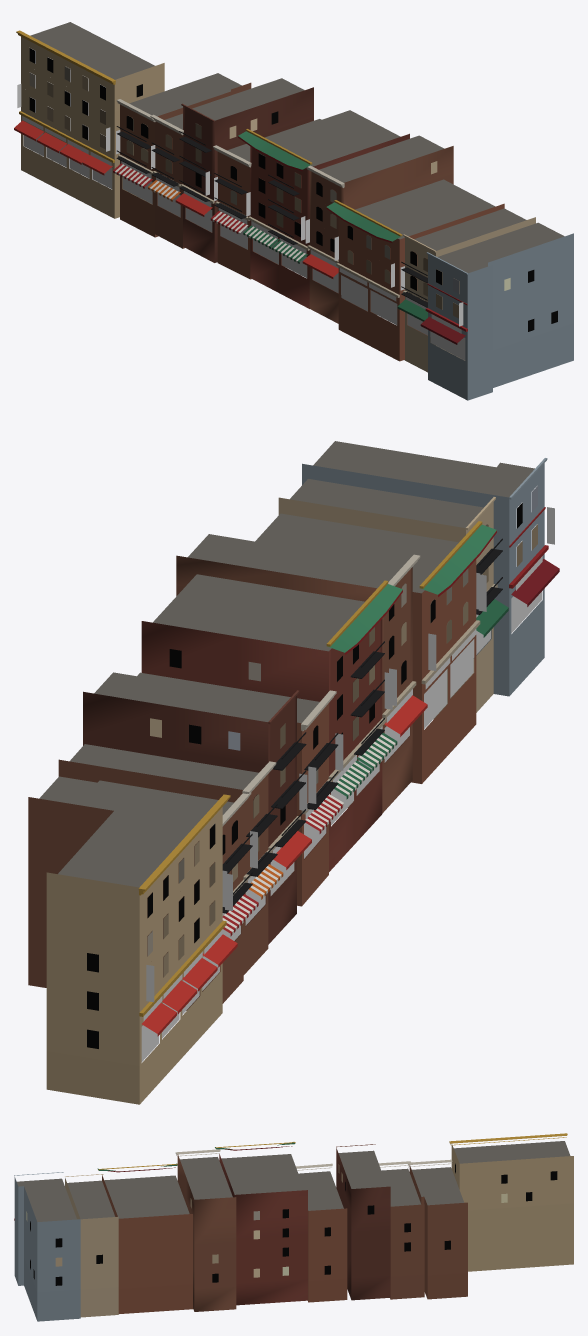
3 views of the same model, one above another, from view 1: azimuth 30°, elevation 25°; view 2: azimuth 150°, elevation 25°; view 3: azimuth 270°, elevation 25° (orthographic). The views are drawn at different scales.
Parts seen in each view (by area): view 1: L1_brickred, L1_stucco, L1_roof, L1_win, L1_shopint, L1_d_fabric, L1_stone, L1_sign, L1_d_metal, L1_d_brickred, L1_brick, L1_rooftile (+2 smaller); view 2: L1_roof, L1_brickred, L1_stucco, L1_d_brickred, L1_d_fabric, L1_win, L1_d_stucco, L1_stone, L1_shopint, L1_sign, L1_d_metal, L1_d_brick (+3 smaller); view 3: L1_brickred, L1_stucco, L1_roof, L1_brick, L1_win, L1_stone, L1_d_brickred, L1_d_paint, L1_d_stone.
Boxes of the visible parts, left/top/right/bottom form: L1_brickred: left=120, top=87, right=453, bottom=361; L1_stucco: left=21, top=36, right=573, bottom=400; L1_roof: left=30, top=22, right=564, bottom=273; L1_win: left=29, top=48, right=557, bottom=331; L1_shopint: left=24, top=133, right=465, bottom=360; L1_d_fabric: left=14, top=120, right=465, bottom=344; L1_stone: left=16, top=30, right=467, bottom=331; L1_sign: left=17, top=84, right=463, bottom=333; L1_d_metal: left=116, top=126, right=427, bottom=307; L1_d_brickred: left=155, top=82, right=504, bottom=361; L1_brick: left=404, top=237, right=435, bottom=372; L1_rooftile: left=238, top=131, right=401, bottom=241; L1_roof: left=39, top=441, right=534, bottom=887; L1_brickred: left=83, top=555, right=476, bottom=1003; L1_stucco: left=46, top=463, right=544, bottom=1104; L1_d_brickred: left=28, top=592, right=421, bottom=1010; L1_d_fabric: left=142, top=559, right=559, bottom=1036; L1_win: left=87, top=486, right=537, bottom=1048; L1_d_stucco: left=302, top=463, right=509, bottom=696; L1_stone: left=138, top=458, right=548, bottom=1016; L1_shopint: left=141, top=592, right=541, bottom=1061; L1_sign: left=143, top=507, right=554, bottom=1021; L1_d_metal: left=222, top=538, right=502, bottom=913; L1_d_brick: left=278, top=497, right=465, bottom=719; L1_brickred: left=118, top=1148, right=467, bottom=1313; L1_stucco: left=14, top=1143, right=573, bottom=1321; L1_roof: left=17, top=1141, right=570, bottom=1221; L1_brick: left=80, top=1216, right=118, bottom=1317; L1_win: left=26, top=1163, right=557, bottom=1285; L1_stone: left=14, top=1133, right=567, bottom=1220; L1_d_brickred: left=102, top=1165, right=427, bottom=1301; L1_d_paint: left=98, top=1142, right=295, bottom=1172; L1_d_stone: left=177, top=1137, right=566, bottom=1170.
Size of the model in its own units: 31.04 by 20.85 by 86.04.
